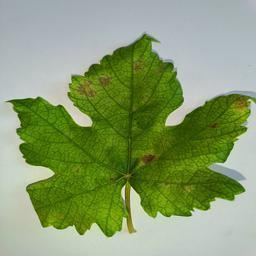Powdery-Mildew: (131, 150, 159, 179), (98, 199, 122, 226), (229, 96, 247, 125), (132, 53, 153, 77), (174, 184, 199, 204), (97, 72, 117, 90), (46, 205, 66, 223)
